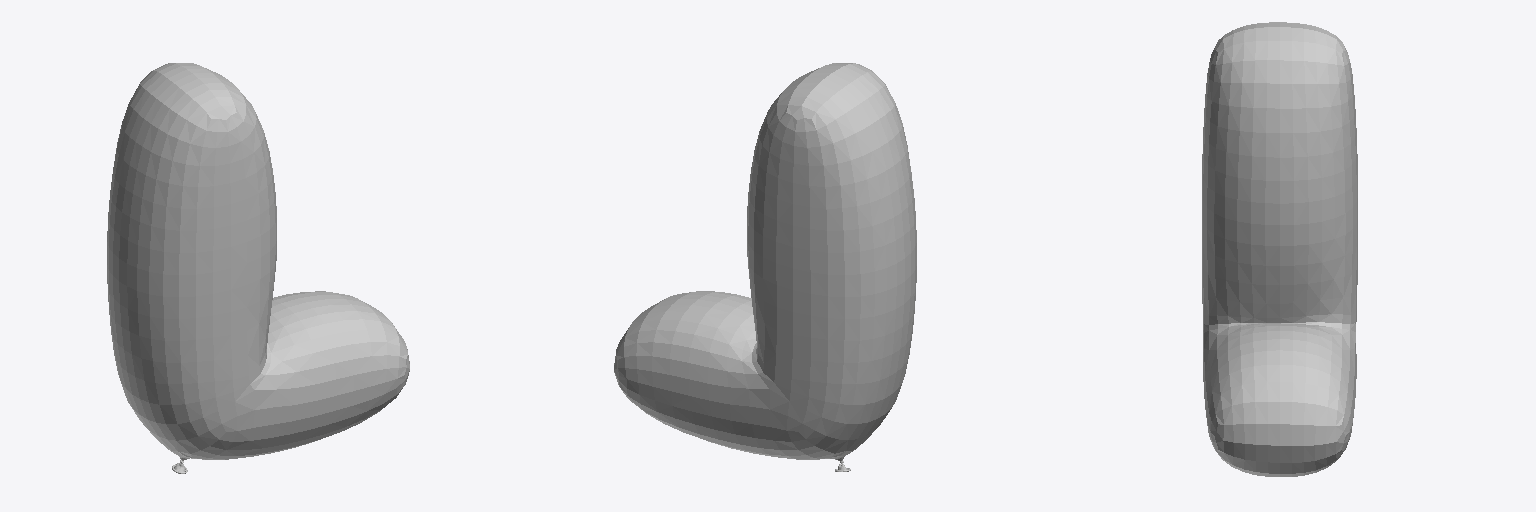
File: balloonl.obj
3 views of the same model, side by side, from view 1: azimuth 30°, elevation 25°; view 2: azimuth 150°, elevation 25°; view 3: azimuth 270°, elevation 25° (orthographic).
Parts seen in each view (by area): view 1: Balloon_Alphabet_Subdivision_L_Alphabet_L; view 2: Balloon_Alphabet_Subdivision_L_Alphabet_L; view 3: Balloon_Alphabet_Subdivision_L_Alphabet_L.
Part boxes in pixels (left/top/right/bottom): Balloon_Alphabet_Subdivision_L_Alphabet_L: left=107, top=63, right=409, bottom=473; Balloon_Alphabet_Subdivision_L_Alphabet_L: left=614, top=63, right=916, bottom=471; Balloon_Alphabet_Subdivision_L_Alphabet_L: left=1202, top=22, right=1357, bottom=476.
Bounding box in the file's own units: 35.66 × 49.27 × 17.69.